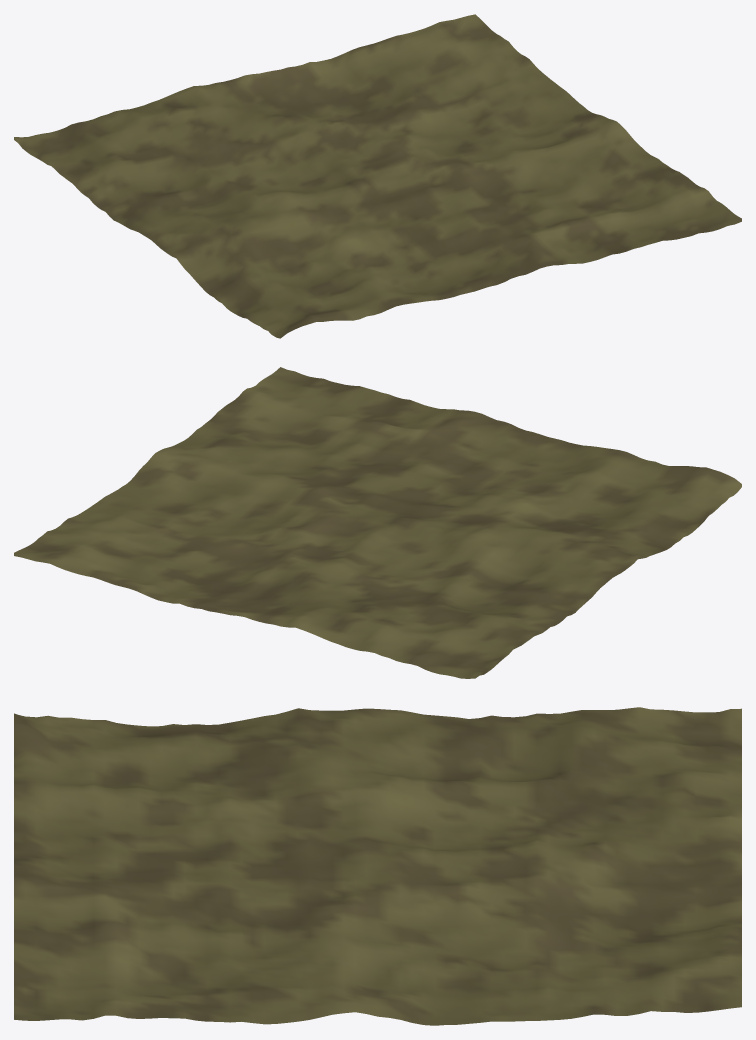
The model's file is land_f_08_04.glb.
The picture shows the model from 3 angles, top to bottom: view 1: azimuth 30°, elevation 25°; view 2: azimuth 150°, elevation 25°; view 3: azimuth 270°, elevation 25°; orthographic projection. The views are drawn at different scales.
Parts seen in each view (by area): view 1: land_f_08_04; view 2: land_f_08_04; view 3: land_f_08_04.
Boxes of the visible parts, x1,y1,x2,y2 form: land_f_08_04: (14,14,741,338); land_f_08_04: (14,367,741,678); land_f_08_04: (14,707,741,1025).
Size of the model in its own units: 3840 by 214 by 3840.
